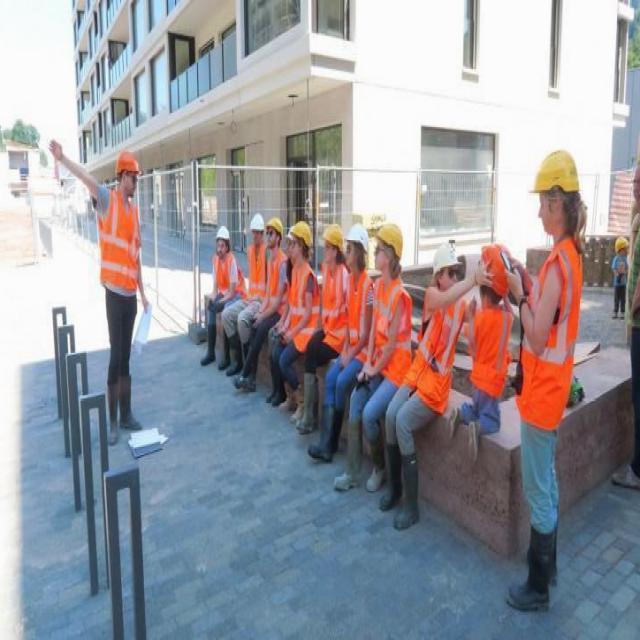boots: (505, 528, 556, 616), (390, 452, 422, 532), (330, 431, 364, 496), (379, 441, 407, 513), (307, 413, 336, 462), (364, 434, 386, 495), (297, 391, 316, 436), (231, 368, 257, 398), (291, 389, 309, 427), (119, 406, 143, 434), (105, 413, 122, 451), (225, 354, 244, 380), (279, 389, 298, 414), (199, 343, 218, 368), (272, 378, 288, 406), (217, 350, 234, 373), (264, 380, 280, 403)
face_nomask: (535, 190, 555, 237), (371, 242, 388, 272), (322, 235, 336, 265), (345, 240, 358, 270), (124, 171, 138, 196), (292, 232, 304, 260), (267, 228, 279, 246)
hand_noglove: (473, 258, 493, 294), (504, 268, 521, 304), (356, 358, 377, 386), (49, 138, 66, 165), (252, 306, 267, 331), (339, 348, 351, 370), (285, 323, 295, 347)
head_helmet: (531, 144, 578, 194), (482, 241, 514, 295), (427, 234, 464, 276), (372, 223, 408, 257), (113, 146, 143, 174), (346, 222, 369, 252), (292, 218, 314, 243), (321, 224, 341, 250), (267, 212, 284, 232), (611, 237, 631, 254), (247, 215, 264, 232), (213, 226, 230, 238)
person: (515, 149, 581, 607), (51, 136, 153, 430), (396, 250, 469, 514), (452, 251, 514, 450), (188, 212, 242, 373), (365, 221, 409, 413), (615, 176, 639, 488), (342, 228, 365, 442), (286, 218, 314, 381), (316, 220, 341, 368), (239, 212, 269, 332), (260, 214, 285, 344), (602, 228, 630, 323)
vest: (524, 250, 578, 420), (413, 296, 462, 394), (101, 200, 141, 304), (469, 307, 514, 394), (374, 286, 408, 378), (288, 257, 317, 345), (347, 267, 368, 348), (210, 248, 242, 293), (325, 270, 342, 343), (247, 246, 264, 294), (268, 254, 284, 301)
